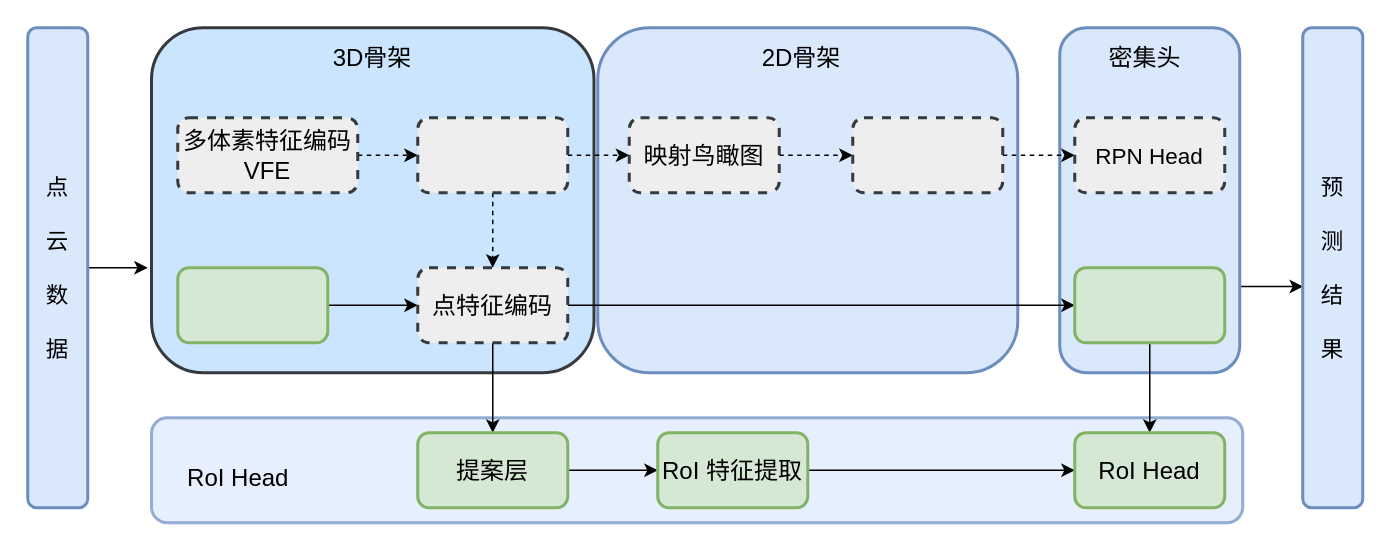
The diagram is 1389 pixels wide and 549 high, and some of its shapes have lost their labels. The centre of each missing label's shape, as x and y in pixels:
2D卷积编码: pixel 927 155
3D稀疏卷积: pixel 492 155
Point Head: pixel 1149 305
PointNet++: pixel 252 305
